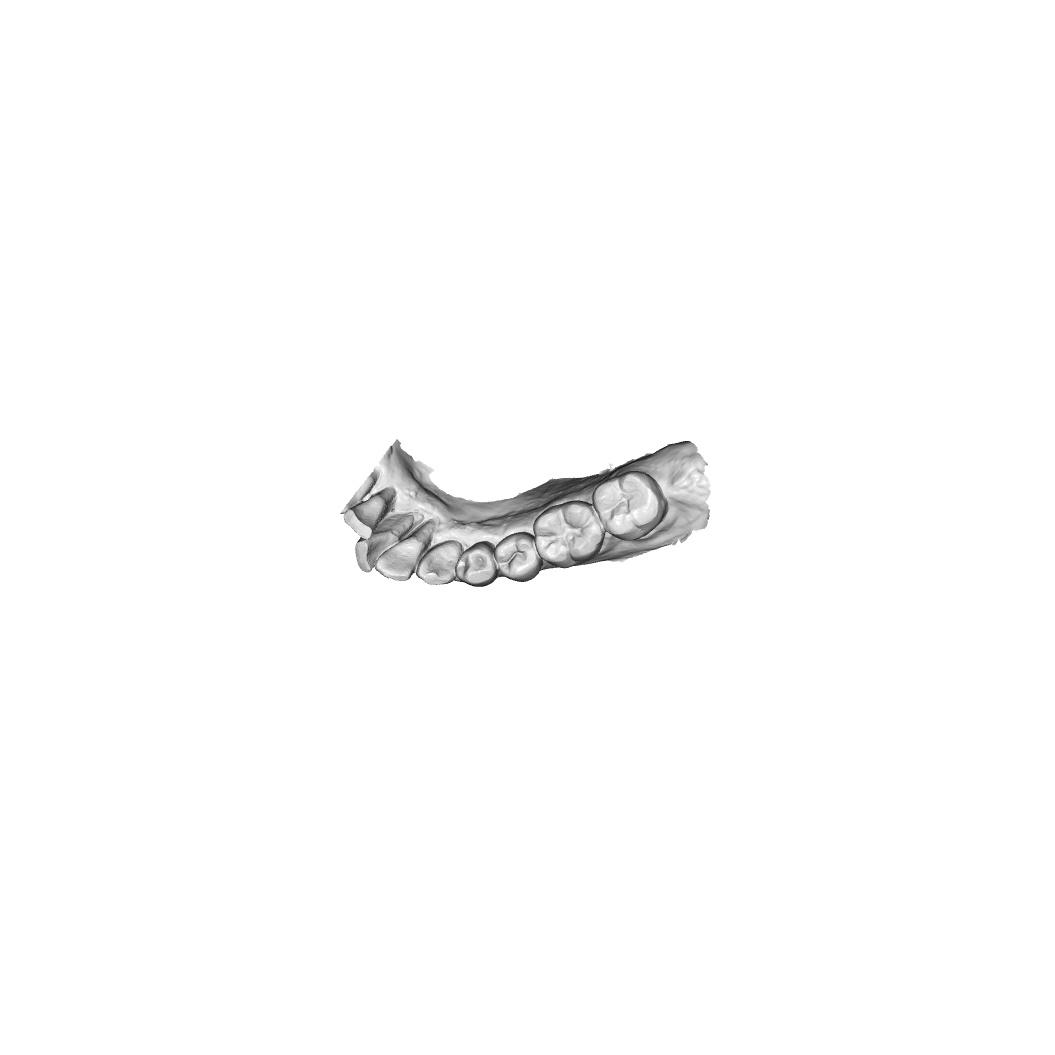canine: (416, 539, 463, 587)
incisor: (342, 493, 388, 540), (374, 541, 419, 582), (353, 531, 395, 573)
molar: (591, 470, 668, 542), (532, 500, 606, 569)
premolar: (494, 530, 544, 583), (455, 540, 497, 587)
